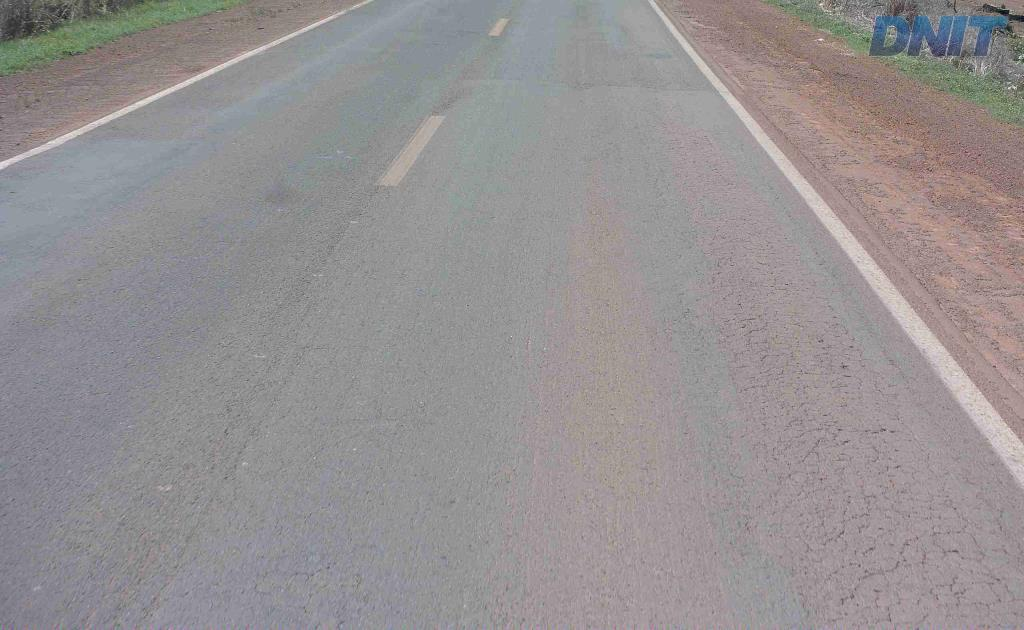crack: (727, 310, 800, 393), (838, 535, 919, 606), (771, 415, 851, 465), (975, 492, 1023, 574), (791, 343, 839, 396)
